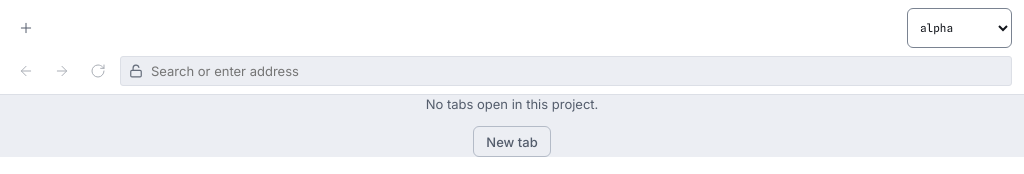
BrowserPage › offers a reload after a process failure
Click the button named "New tab": (26, 28) [12, 14, 40, 42]
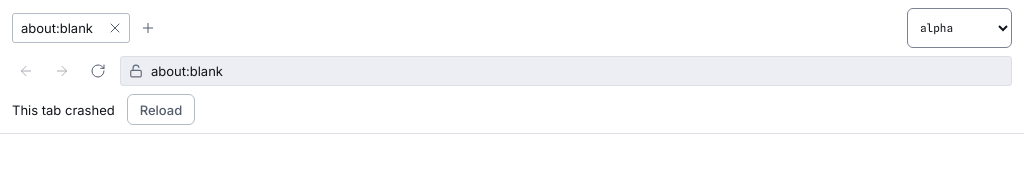
Expected: the text "This tab crashed" is shown, [12, 100, 115, 120]
Click the button "Reload": (161, 110) [127, 94, 195, 125]
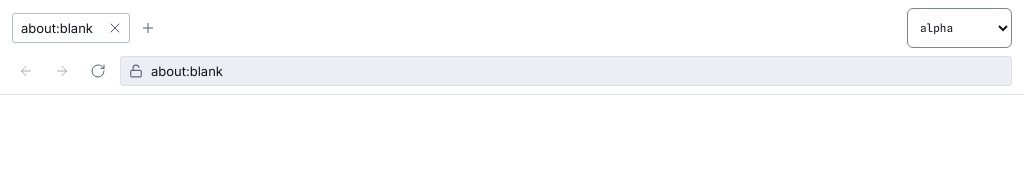
Expected: the text "This tab crashed" is gone
